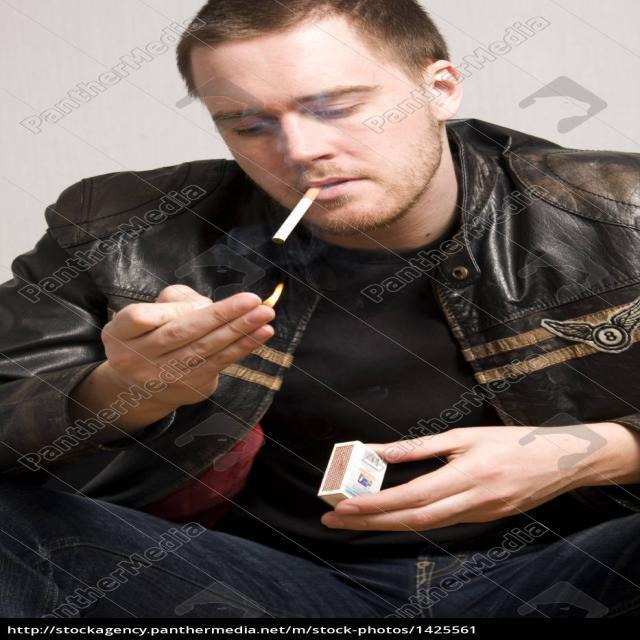smoking: (240, 154, 362, 281)
